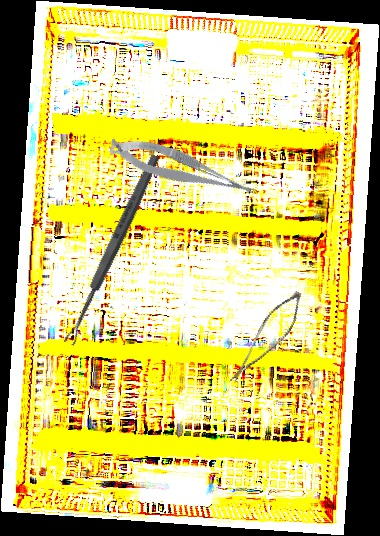Micro Scissor: (105, 123, 259, 216), (228, 281, 308, 398)
Surgical Spoon: (61, 152, 163, 347)
